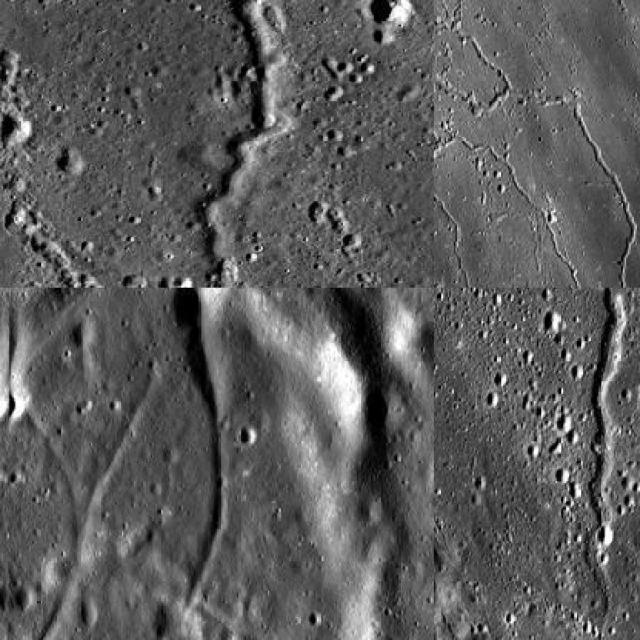rille: (74, 287, 229, 638), (115, 0, 303, 286), (434, 105, 638, 286), (522, 88, 638, 286), (583, 288, 639, 600), (434, 0, 514, 120)
